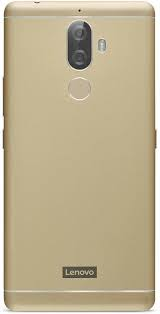lenovo: (1, 1, 160, 314)
